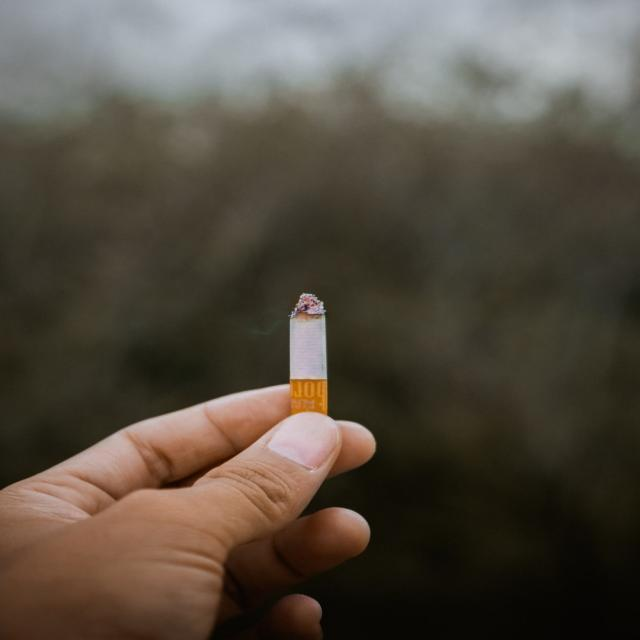rokok: (278, 290, 342, 410)
